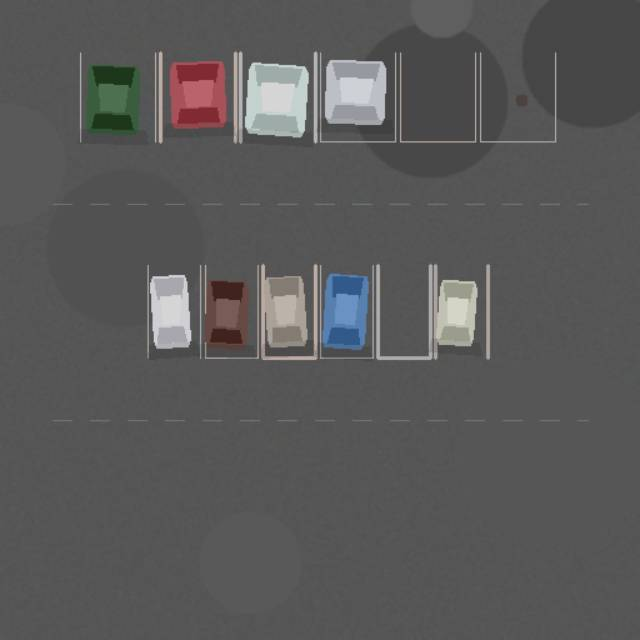space-empty: (400, 52, 475, 141), (480, 52, 555, 141), (377, 265, 430, 357)
space-occupied: (80, 52, 155, 141), (160, 52, 235, 141), (240, 52, 315, 141), (320, 52, 395, 141), (147, 265, 200, 357), (320, 265, 373, 357), (205, 265, 257, 357), (263, 265, 315, 357), (435, 265, 487, 357)
